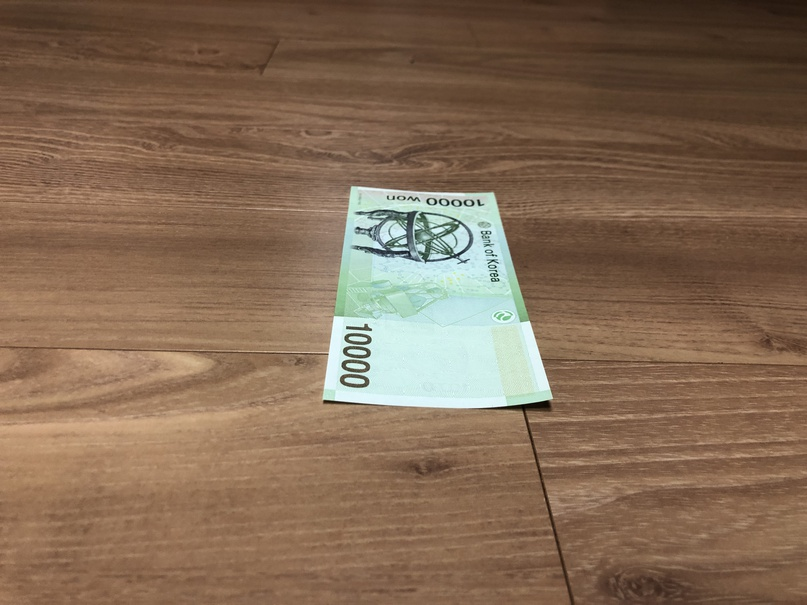10000won: (322, 186, 553, 410)
